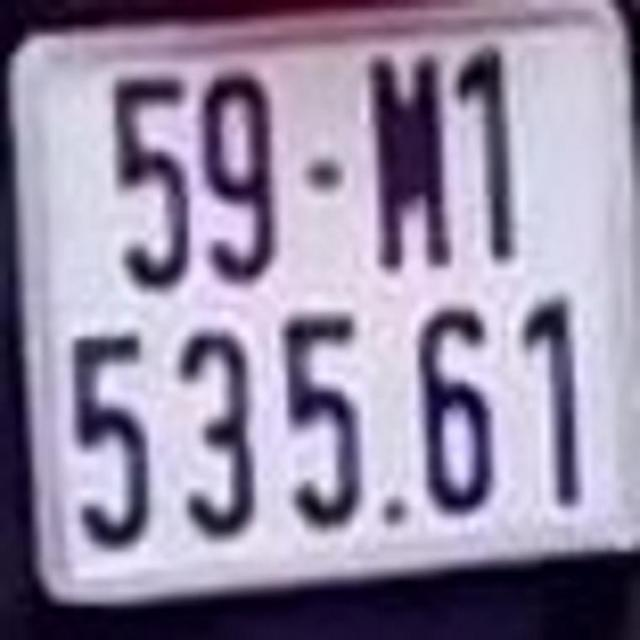1: (517, 284, 599, 514), (458, 44, 529, 263)
3: (176, 319, 260, 546)
5: (278, 306, 373, 536), (68, 315, 154, 552), (108, 71, 193, 292)
6: (413, 296, 503, 517)
9: (196, 73, 280, 282)
H: (370, 46, 464, 276)
